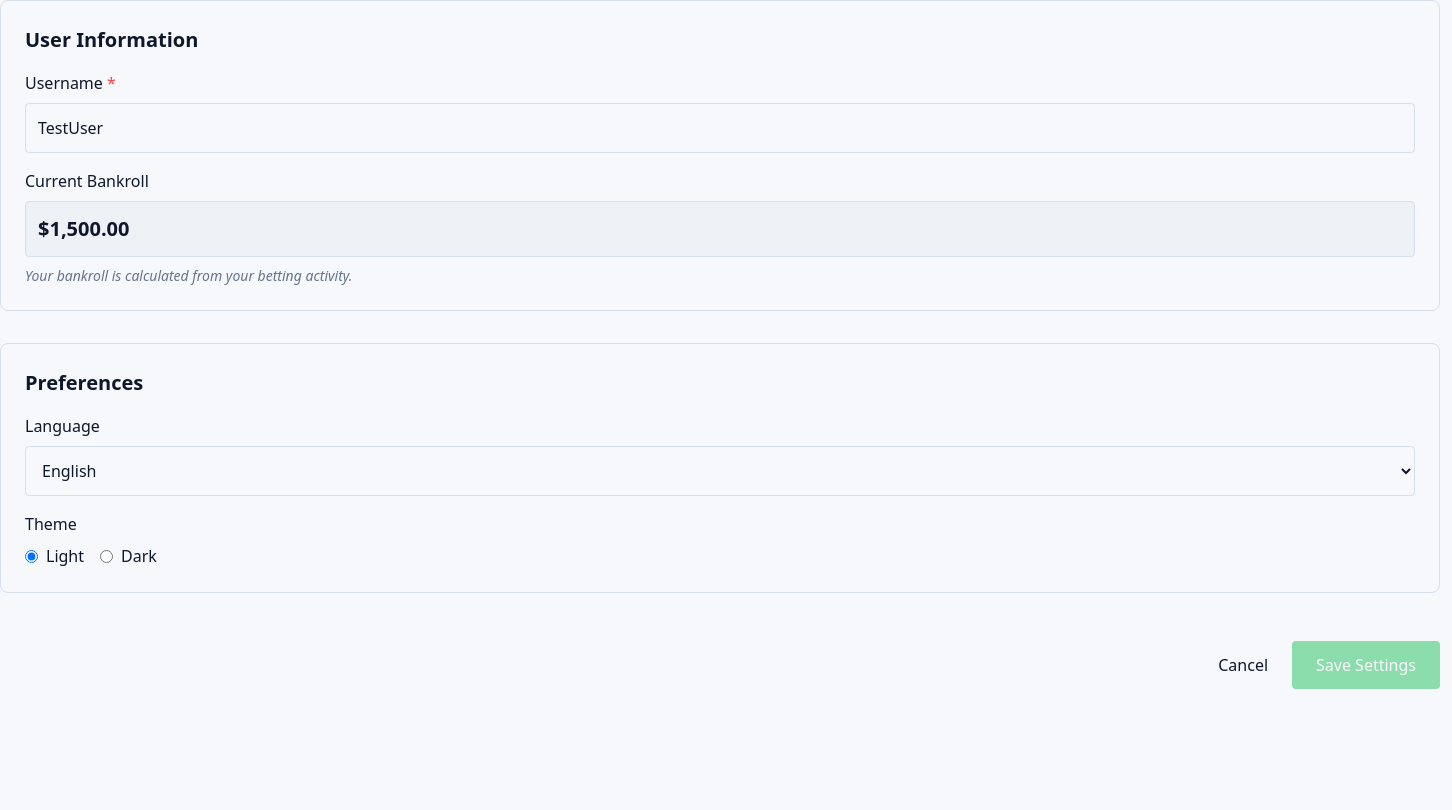
SettingsForm › Change Detection (hasChanges) › detects theme changes correctly
Expected: the button "Save Settings" is disabled, [1292, 641, 1440, 689]
Click the radio button labelled "Dark": {"x": 106, "y": 556} [100, 550, 113, 562]
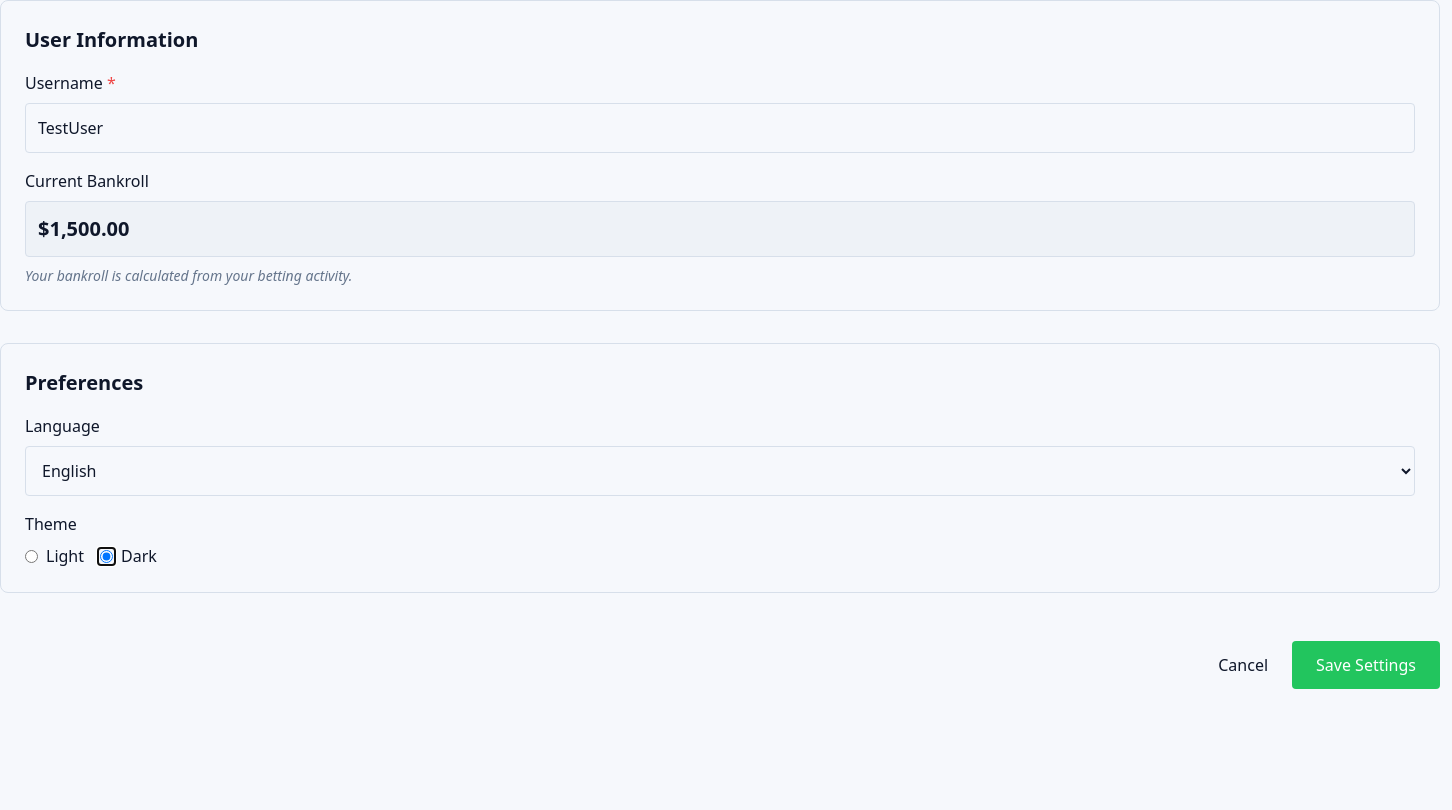
Result: the button "Save Settings" is enabled at [1292, 641, 1440, 689]
